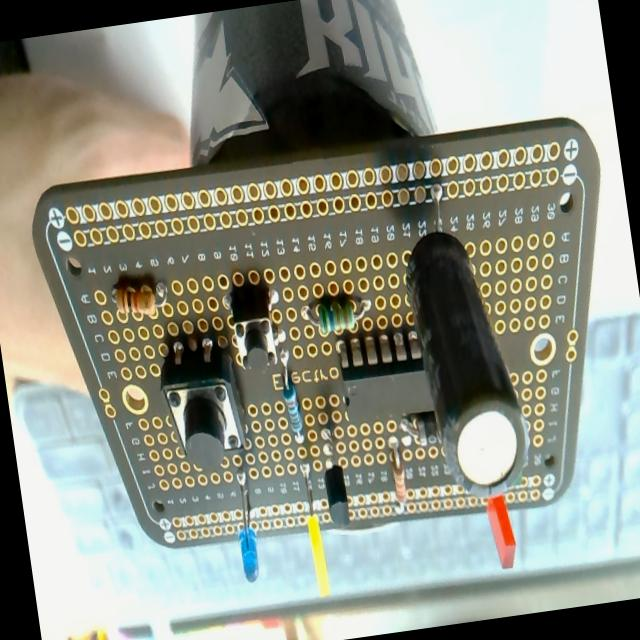Electrolytic capacitor: (400, 226, 532, 505)
IC: (334, 330, 471, 427)
diode: (402, 411, 456, 447)
led: (296, 457, 331, 595), (228, 466, 264, 586), (484, 492, 520, 571)
resistor: (298, 294, 373, 339), (276, 347, 306, 442), (110, 278, 170, 321), (387, 442, 411, 516)
switch: (162, 369, 248, 465), (224, 282, 286, 372)
transistor: (317, 426, 351, 526)
